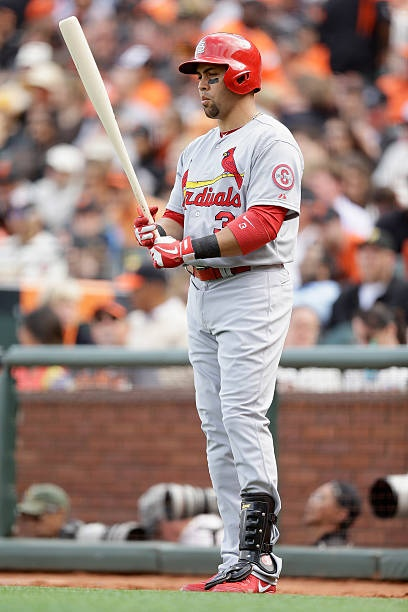bita: (60, 18, 168, 254)
